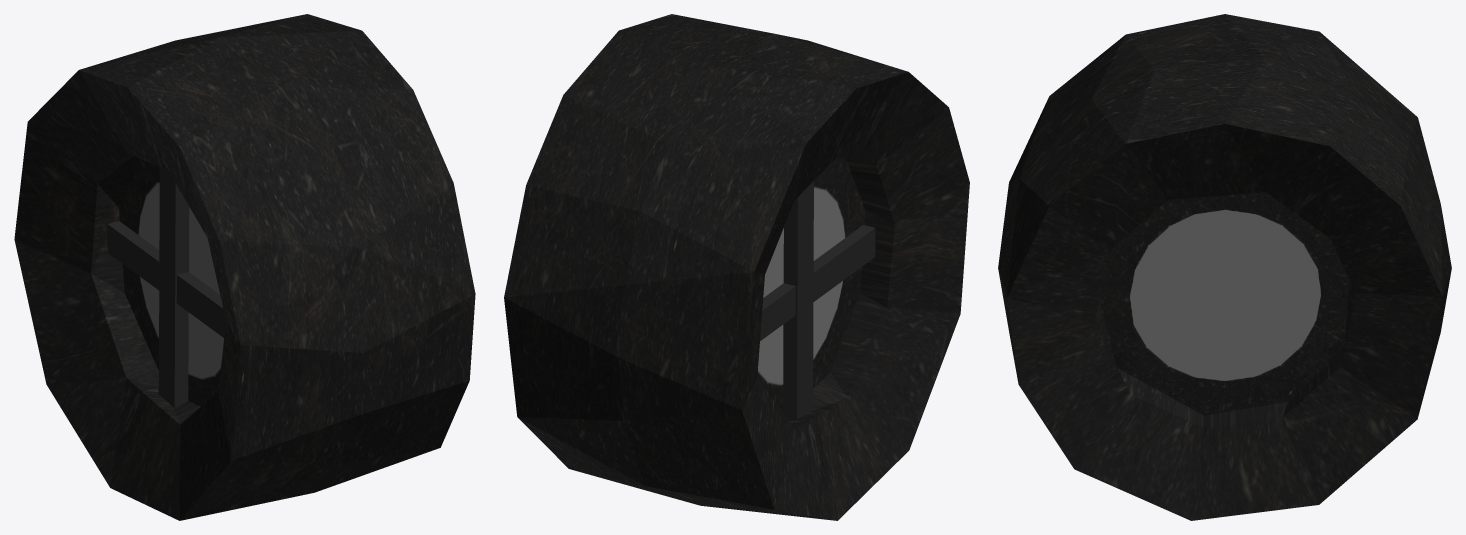
File: Grua_Llanta.fbx
3 views of the same model, side by side, from view 1: azimuth 30°, elevation 25°; view 2: azimuth 150°, elevation 25°; view 3: azimuth 270°, elevation 25° (orthographic). The views are drawn at different scales.
Parts seen in each view (by area): view 1: Cube.027; view 2: Cube.027; view 3: Cube.027.
Part boxes in pixels (x1,y1,x2,y2): Cube.027: (14, 14, 475, 520); Cube.027: (504, 14, 969, 520); Cube.027: (998, 14, 1451, 520).
Size of the model in its own units: 1.15 by 2.02 by 2.
1 material, 1 textured.
